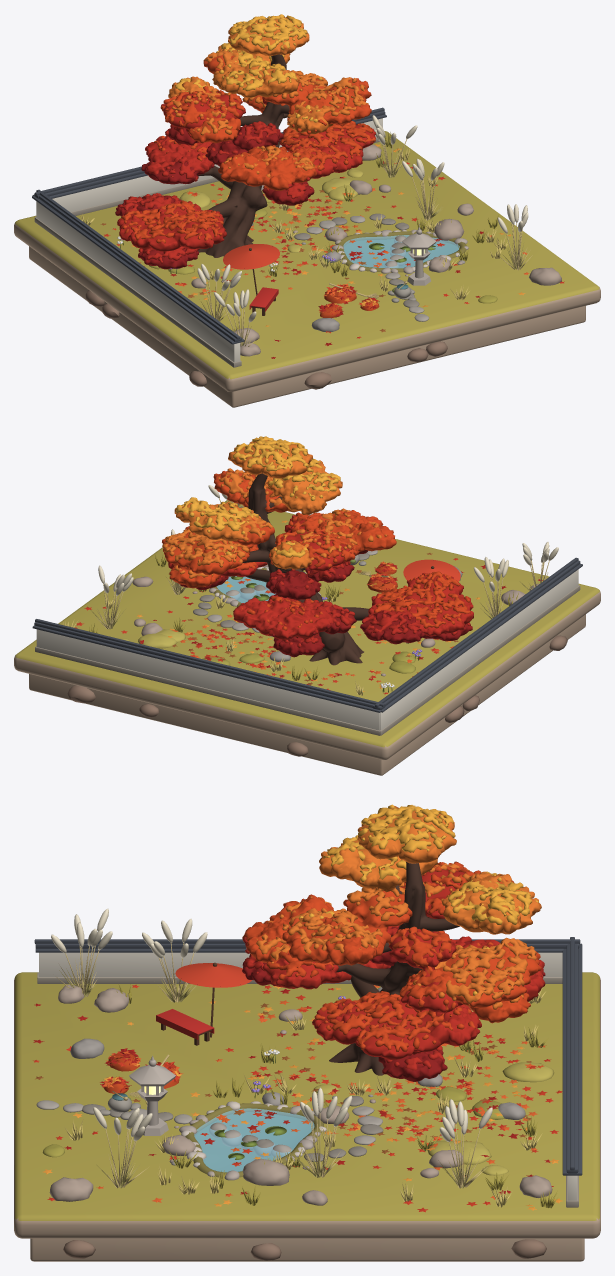
The model's file is autumn.glb.
3 renders of one model, top to bottom at view 1: azimuth 30°, elevation 25°; view 2: azimuth 150°, elevation 25°; view 3: azimuth 270°, elevation 25°, orthographic. The views are drawn at different scales.
Visible parts, largest first — view 1: Base, Blossoms, Wall, Pampas, Grass, Trunk, Rocks, Leaves, Water, Path, Nodate, Pond (+2 smaller); view 2: Base, Blossoms, Wall, Trunk, Pampas, Grass, Leaves, Path, Rocks, Nodate, LeafPiles, Water; view 3: Base, Blossoms, Wall, Grass, Pampas, Rocks, Leaves, Trunk, Water, Path, Pond, Nodate (+2 smaller).
Boxes of the visible parts, box(x1,y1,x2,y2) form: Base: box(14, 131, 600, 407); Blossoms: box(115, 14, 375, 269); Wall: box(32, 107, 386, 367); Pampas: box(197, 115, 532, 346); Grass: box(80, 132, 507, 331); Trunk: box(197, 54, 289, 257); Rocks: box(191, 144, 561, 356); Leaves: box(100, 144, 564, 358); Water: box(343, 235, 459, 268); Path: box(294, 213, 428, 321); Nodate: box(223, 244, 279, 315); Pond: box(331, 229, 468, 273); Base: box(14, 500, 600, 775); Blossoms: box(162, 436, 473, 657); Wall: box(32, 557, 582, 735); Trunk: box(242, 473, 369, 665); Pampas: box(88, 485, 558, 629); Grass: box(62, 554, 518, 695); Leaves: box(75, 520, 542, 694); Path: box(193, 550, 377, 632); Rocks: box(132, 506, 539, 676); Nodate: box(403, 559, 460, 581); LeafPiles: box(358, 561, 407, 592); Water: box(216, 576, 275, 603); Base: box(14, 972, 600, 1261); Blossoms: box(242, 804, 545, 1081); Wall: box(34, 937, 582, 1207); Grass: box(42, 984, 558, 1208); Pampas: box(51, 908, 492, 1188); Rocks: box(49, 984, 552, 1205); Leaves: box(33, 984, 562, 1212); Trunk: box(329, 862, 459, 1075); Water: box(194, 1108, 314, 1172); Path: box(36, 1096, 383, 1161); Pond: box(179, 1101, 326, 1180); Nodate: box(156, 962, 251, 1045).
Size of the model in its own units: 72 by 44.59 by 72.
